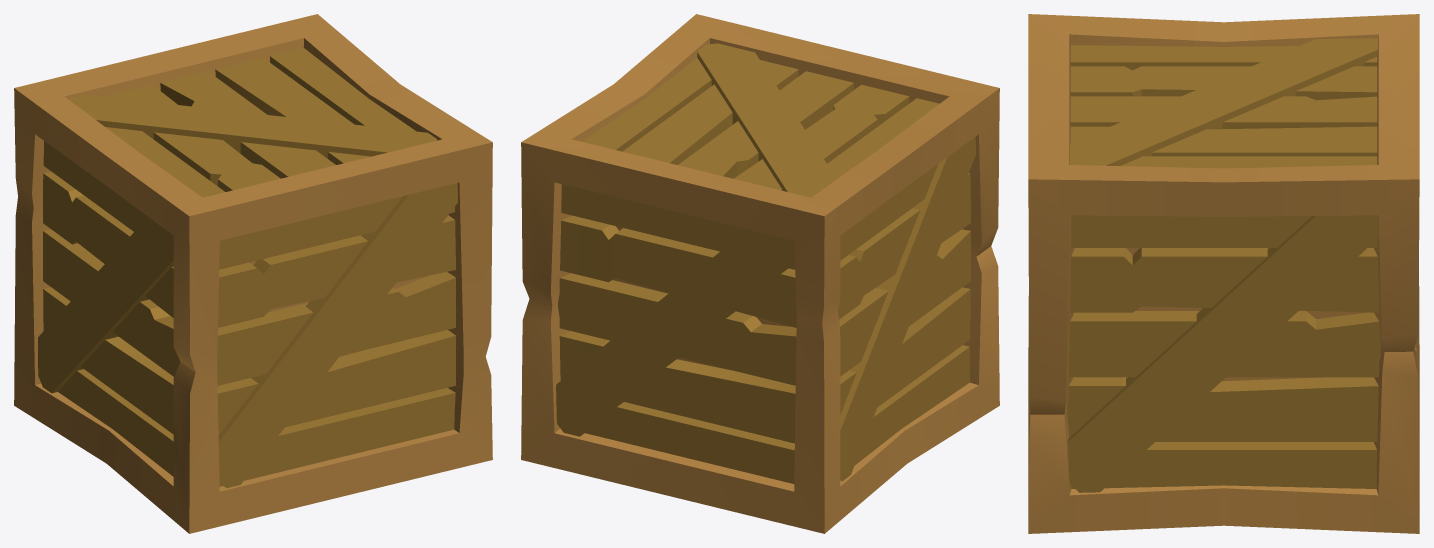
The model's file is animal_company_-_crate.glb.
3 views of the same model, side by side, from view 1: azimuth 30°, elevation 25°; view 2: azimuth 150°, elevation 25°; view 3: azimuth 270°, elevation 25° (orthographic). The views are drawn at different scales.
Parts seen in each view (by area): view 1: Crate_3; view 2: Crate_3; view 3: Crate_3.
Boxes of the visible parts, x1,y1,x2,y2 form: Crate_3: (14, 14, 492, 533); Crate_3: (521, 14, 999, 533); Crate_3: (1028, 14, 1419, 533).
Size of the model in its own units: 0.7063 by 0.7064 by 0.7063.
